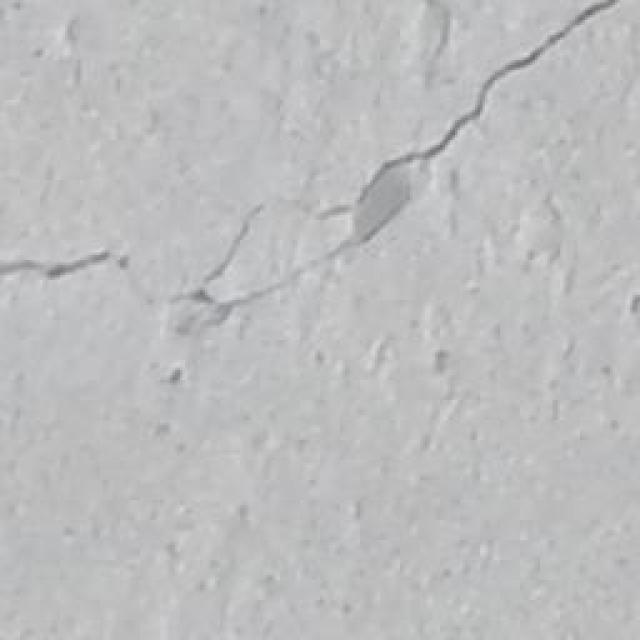concrete-crack: (0, 0, 633, 337)
